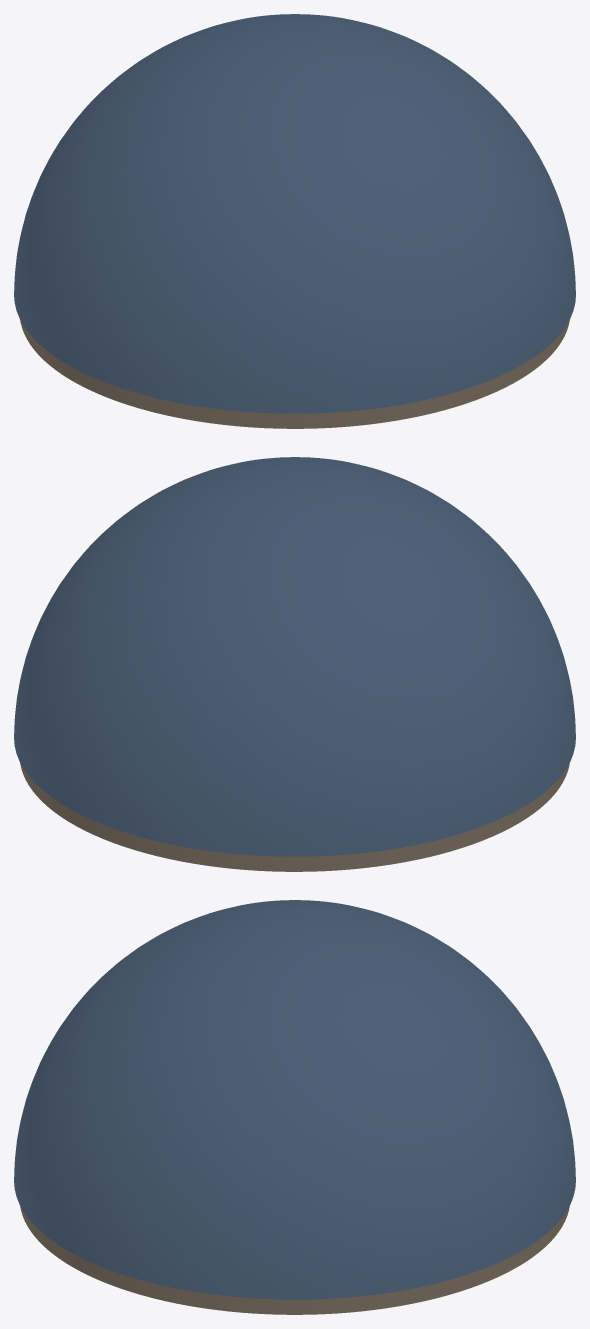
The model's file is flat-earth.glb.
3 renders of one model, top to bottom at view 1: azimuth 30°, elevation 25°; view 2: azimuth 150°, elevation 25°; view 3: azimuth 270°, elevation 25°, orthographic.
Visible parts, largest first — view 1: Firmament, EarthSlab; view 2: Firmament, EarthSlab; view 3: Firmament, EarthSlab.
Part boxes in pixels (box(x1,y1,x2,y2)): Firmament: box(14, 14, 575, 413); EarthSlab: box(20, 320, 569, 428); Firmament: box(14, 457, 575, 856); EarthSlab: box(20, 763, 569, 871); Firmament: box(14, 900, 575, 1299); EarthSlab: box(20, 1206, 569, 1314).
Bounding box in the file's own units: 10.2 × 5.45 × 10.2.
Materials: 6 (6 with a texture image).
